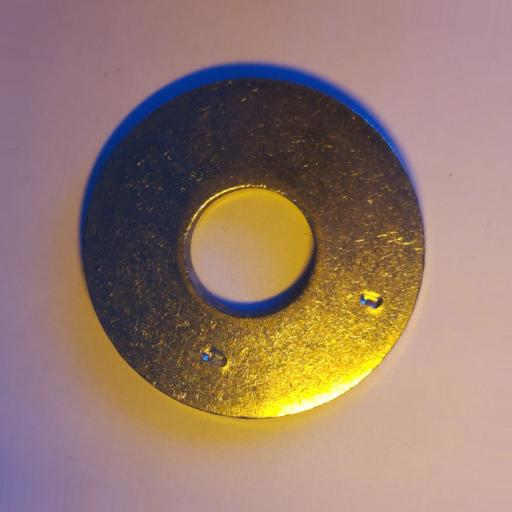circular_cavity: (200, 345, 228, 368), (359, 290, 385, 310)
